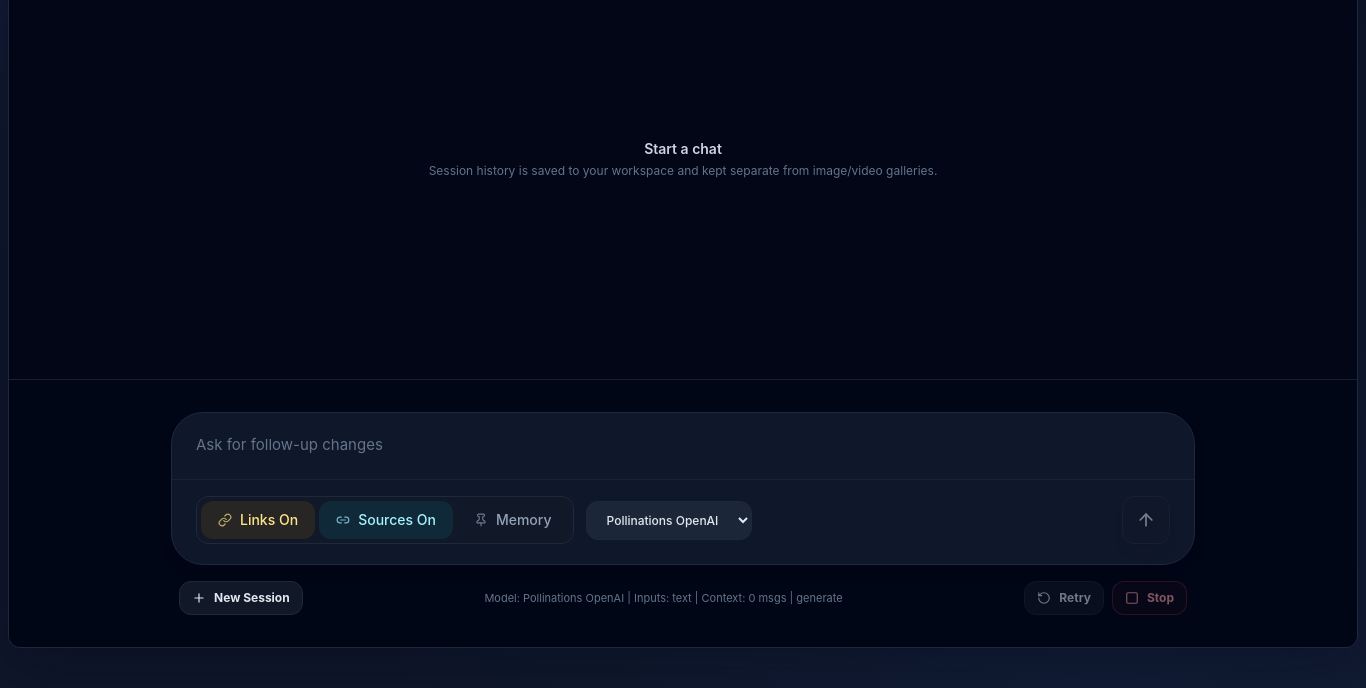
Test: AIChat formatted-response regressions › handles true event-stream responses (chunk aggregation + trailing buffer)
(page scrolled)
Type "Stream this" into the text box with placeholder "Ask for follow-up changes" at coordinates (683, 443), box [172,413,1194,473]
Then press Enter
(page scrolled)
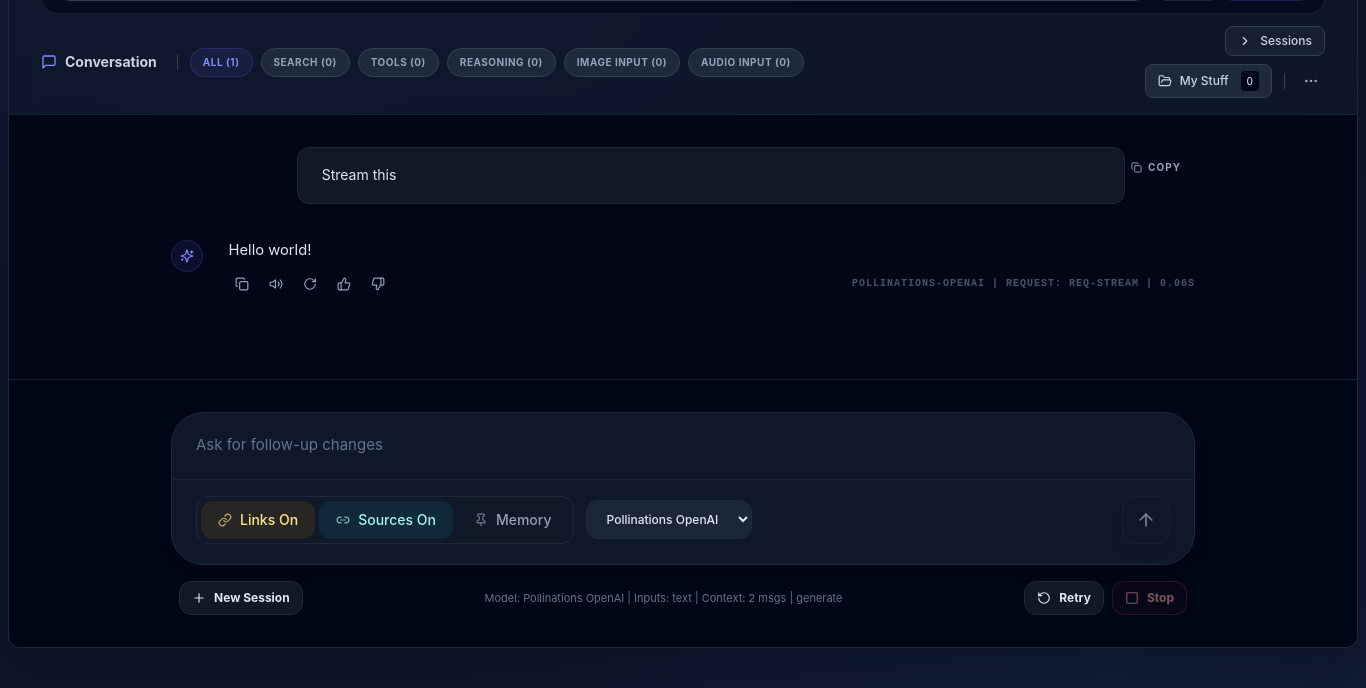
Expected: the text "Hello world!" is shown, [229,241,311,259]
Expected: the text "pollinations-openai | request: req-stream | 0.06s" is shown, [852,276,1195,291]
